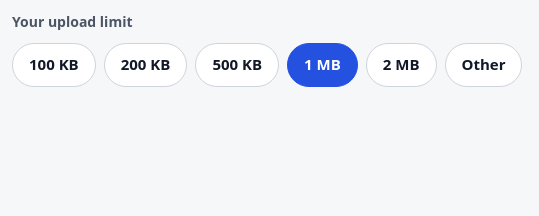
LimitChips › flags an invalid entry and falls back to no preset
This screenshot has width=539, height=216.
Click the button "Other". click: coordinates (484, 65)
box: [444, 43, 522, 87]
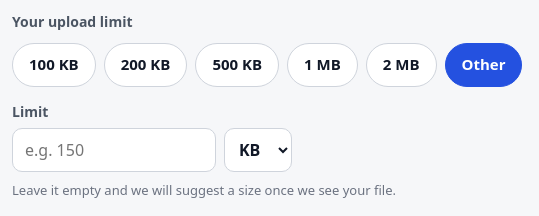
Type "abc" into the field labelled "Limit". click: coordinates (114, 150)
box: [12, 128, 216, 172]
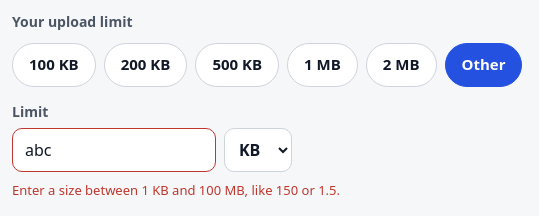
Check: the text "Enter a size between 1 KB and 100 MB, like 150 or 1.5." is shown, box [12, 181, 340, 199]
